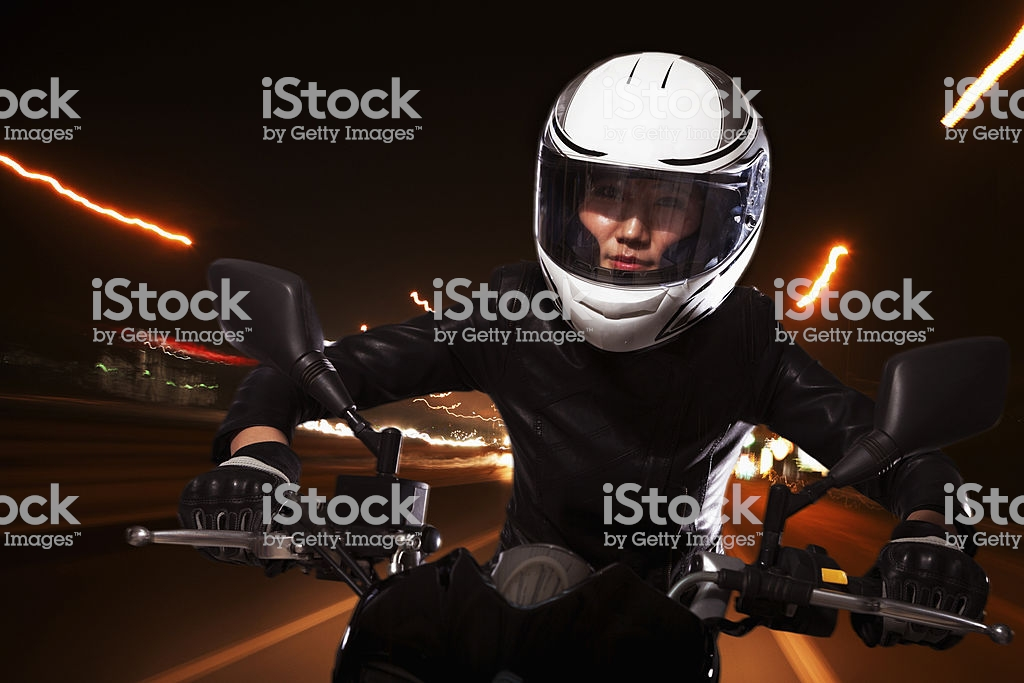helmet: (522, 71, 782, 347)
